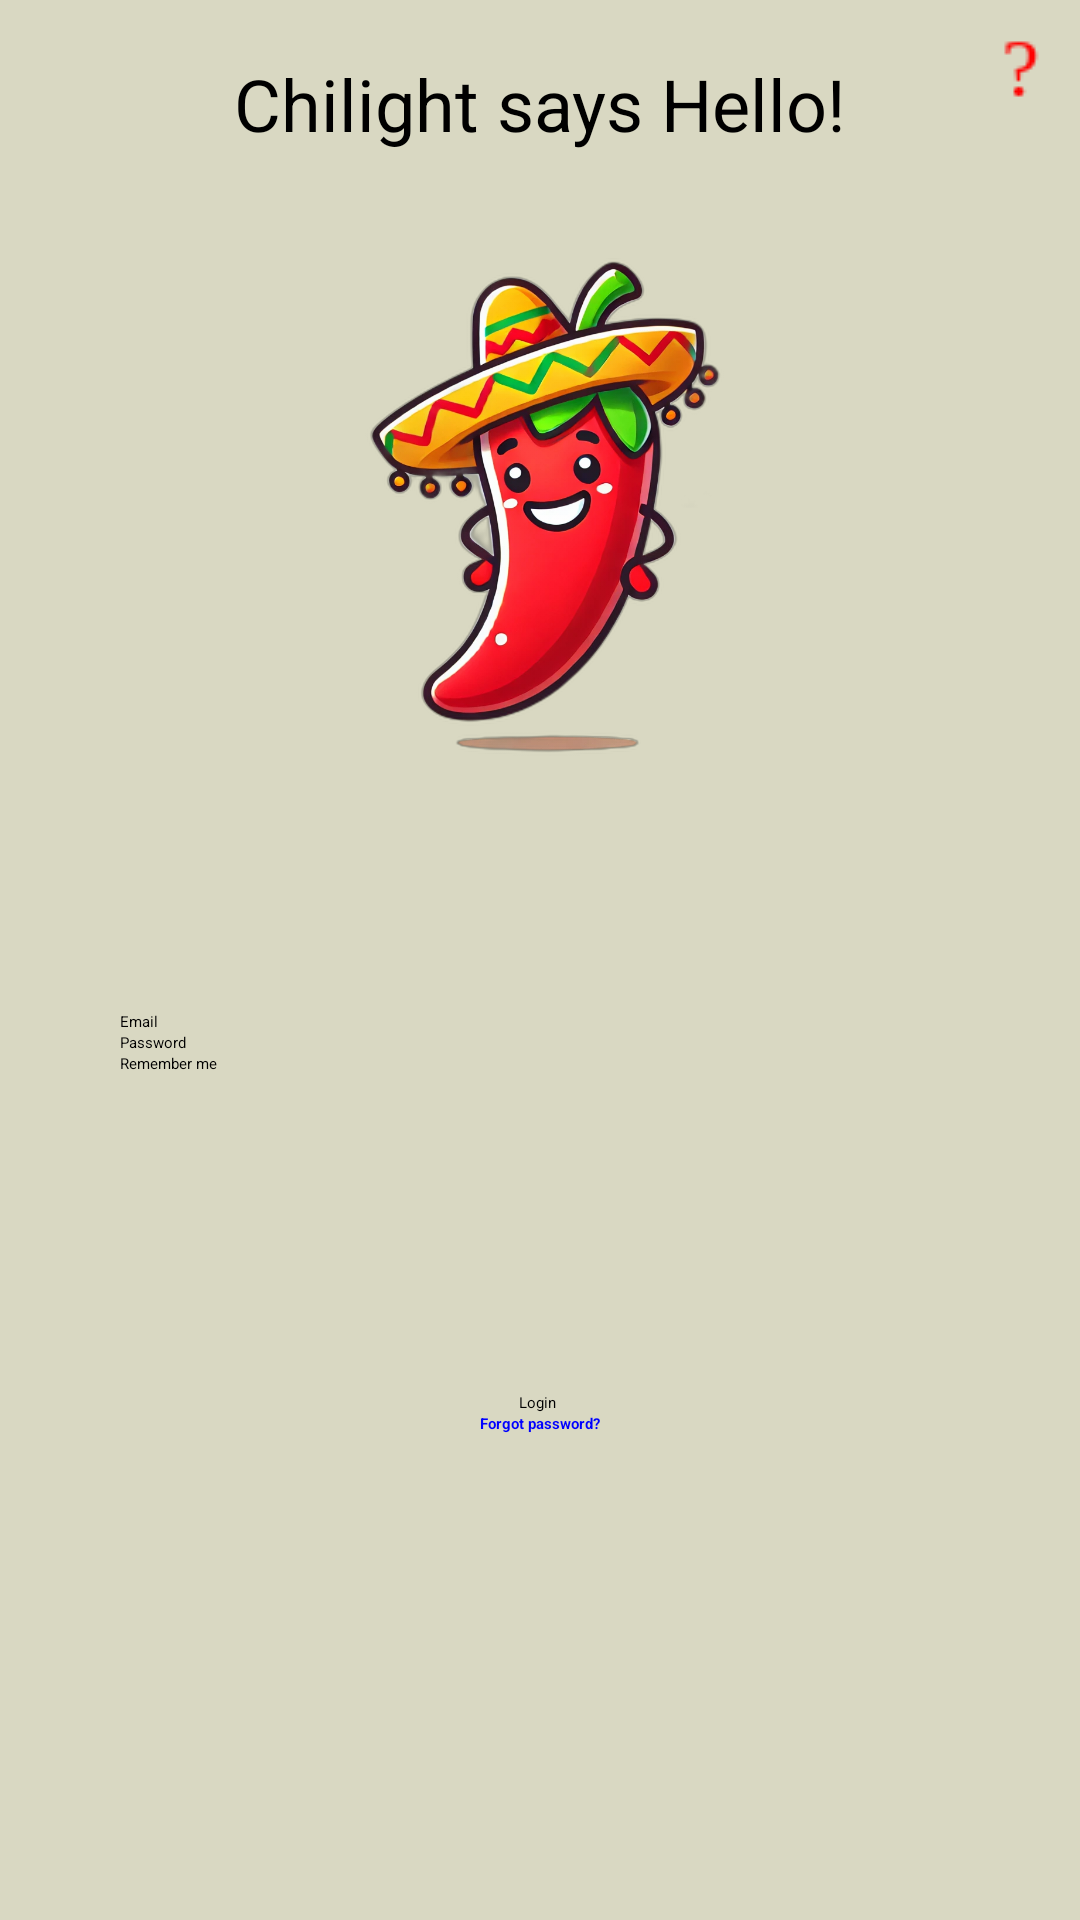

Screen size 1080px x 1920px. Icon name, then its center in pixels as (x,y):
Help: (1021,69)
